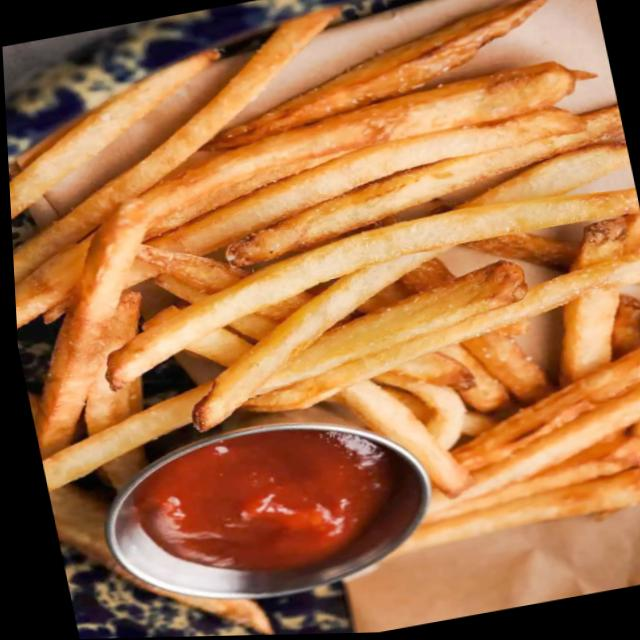french fries: (0, 0, 640, 640)
ketchup: (125, 411, 405, 594)
